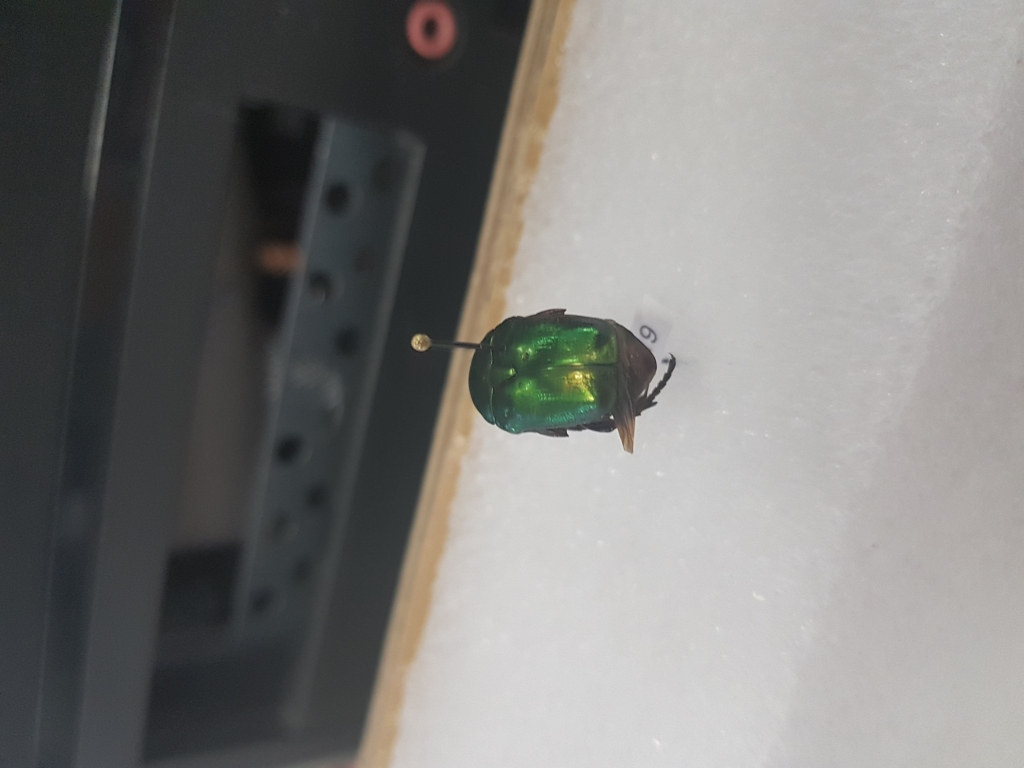Protaetia_cuprea_ignicollis: (460, 298, 688, 457)
